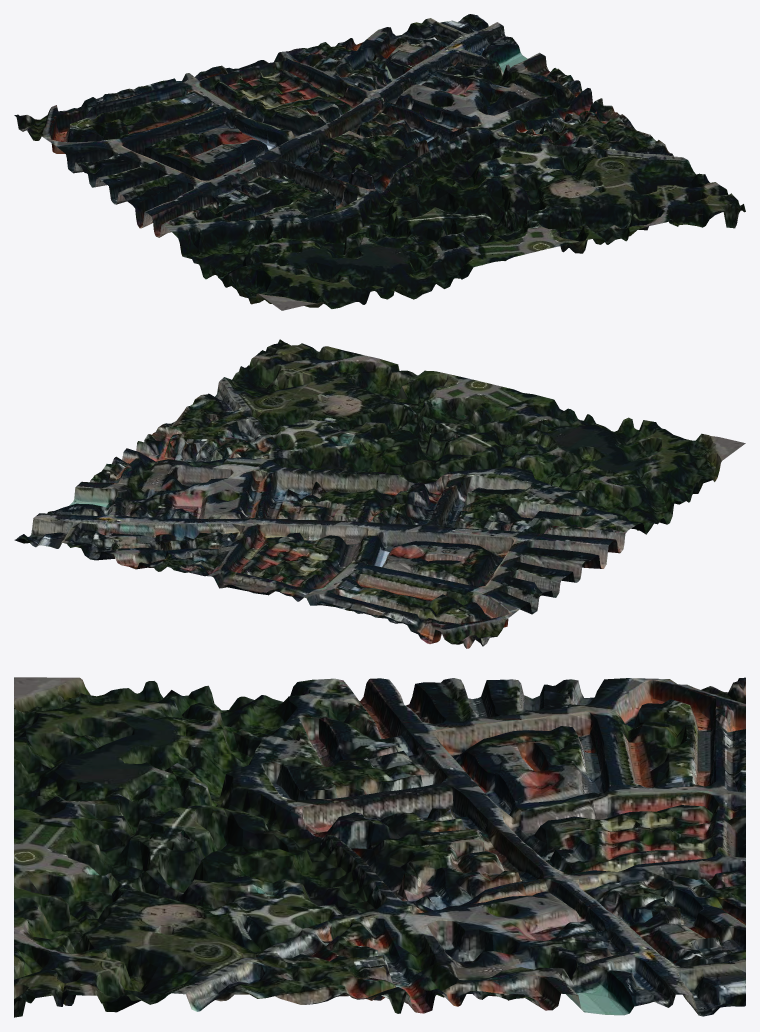
Rendered from map_12_1023_1725.dae.
3 renders of one model, top to bottom at view 1: azimuth 30°, elevation 25°; view 2: azimuth 150°, elevation 25°; view 3: azimuth 270°, elevation 25°, orthographic. The views are drawn at different scales.
Parts seen in each view (by area): view 1: Ter0; view 2: Ter0; view 3: Ter0.
Part boxes in pixels (<box>): Ter0: <box>14,14,745,310</box>; Ter0: <box>14,339,745,648</box>; Ter0: <box>14,677,745,1017</box>.
Size of the model in its own units: 511 by 511 by 31.18.
3 materials, 3 textured.
